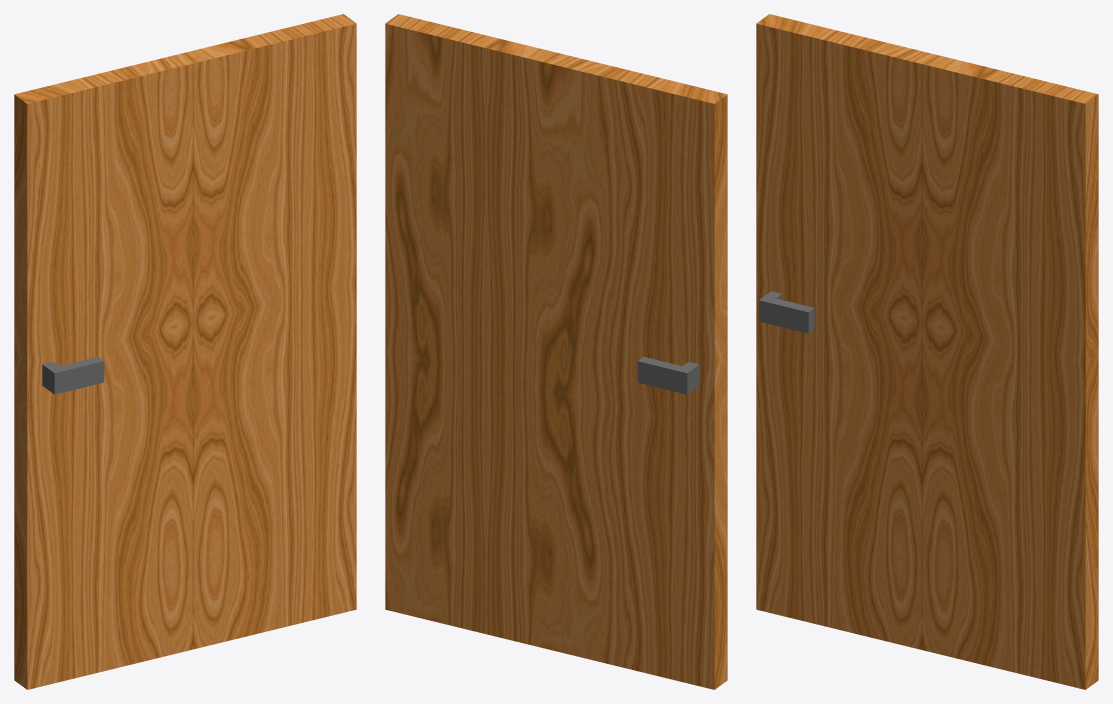
Rendered from door_.fbx.
The picture shows the model from 3 angles, left to right: view 1: azimuth 30°, elevation 25°; view 2: azimuth 150°, elevation 25°; view 3: azimuth 330°, elevation 25°; orthographic projection.
Visible parts, largest first — view 1: pCube3; view 2: pCube3; view 3: pCube3.
Part boxes in pixels (<box>): pCube3: <box>14,14,356,689</box>; pCube3: <box>385,14,727,689</box>; pCube3: <box>756,14,1098,689</box>.
Size of the model in its own units: 3.62 by 6.16 by 0.7188.
